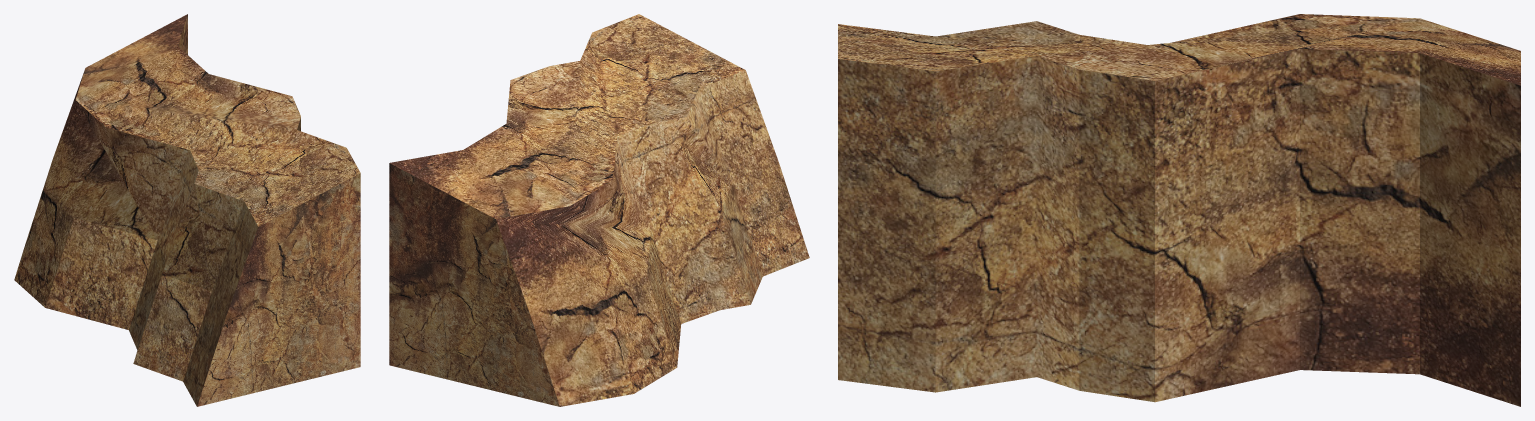
Rendered from RockWall.fbx.
3 renders of one model, left to right at view 1: azimuth 30°, elevation 25°; view 2: azimuth 150°, elevation 25°; view 3: azimuth 270°, elevation 25°, orthographic. The views are drawn at different scales.
Visible parts, largest first — view 1: 円; view 2: 円; view 3: 円.
Part boxes in pixels (x1=…): 円: x1=14, y1=14, x2=360, y2=406; 円: x1=389, y1=14, x2=809, y2=406; 円: x1=838, y1=14, x2=1520, y2=406.
Size of the model in its own units: 874 by 773 by 1490.
1 material, 1 textured.
